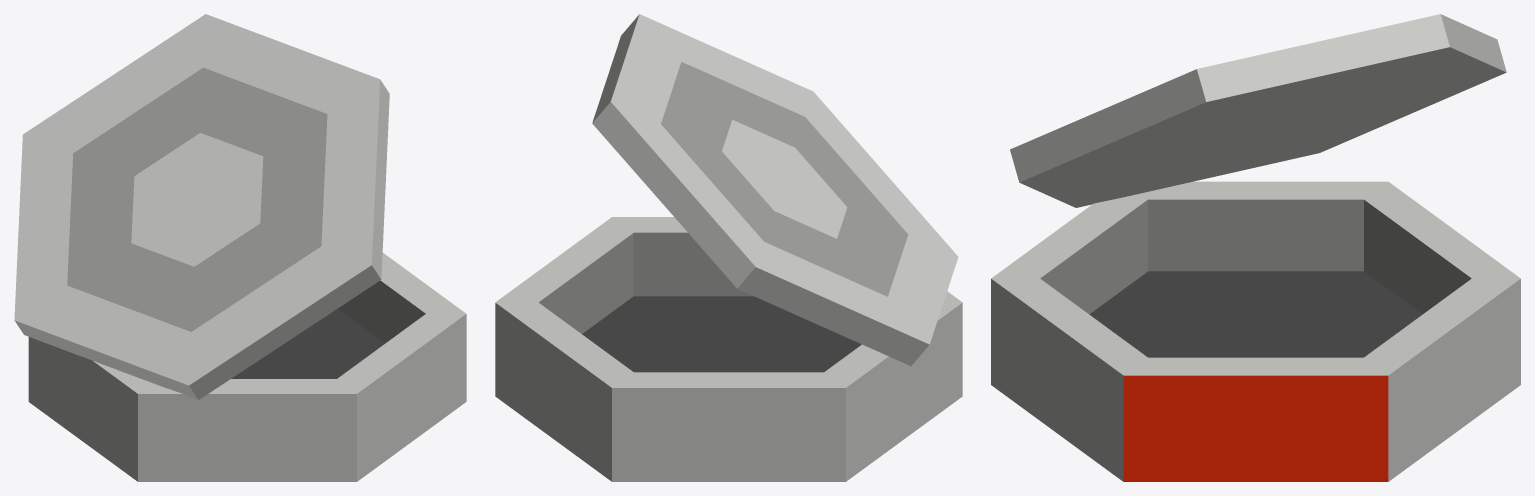
The model's file is Red_tin.fbx.
3 views of the same model, side by side, from view 1: azimuth 30°, elevation 25°; view 2: azimuth 150°, elevation 25°; view 3: azimuth 270°, elevation 25° (orthographic). The views are drawn at different scales.
Visible parts, largest first — view 1: Cylinder.001; view 2: Cylinder.001; view 3: Cylinder.001.
Boxes of the visible parts, bbox=[...] form: Cylinder.001: bbox=[14, 14, 466, 481]; Cylinder.001: bbox=[495, 14, 962, 481]; Cylinder.001: bbox=[991, 14, 1520, 481].
Bounding box in the file's own units: 134 × 111 × 136.
